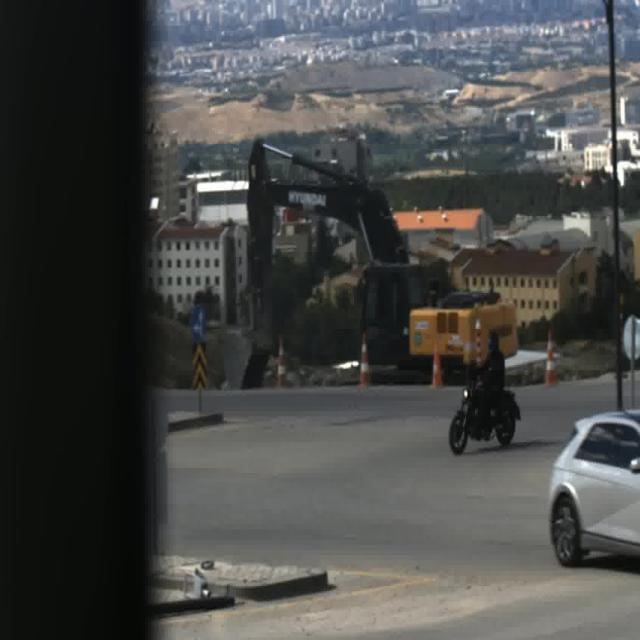Car: (548, 412, 640, 569)
Motorcycle: (446, 332, 526, 454)
